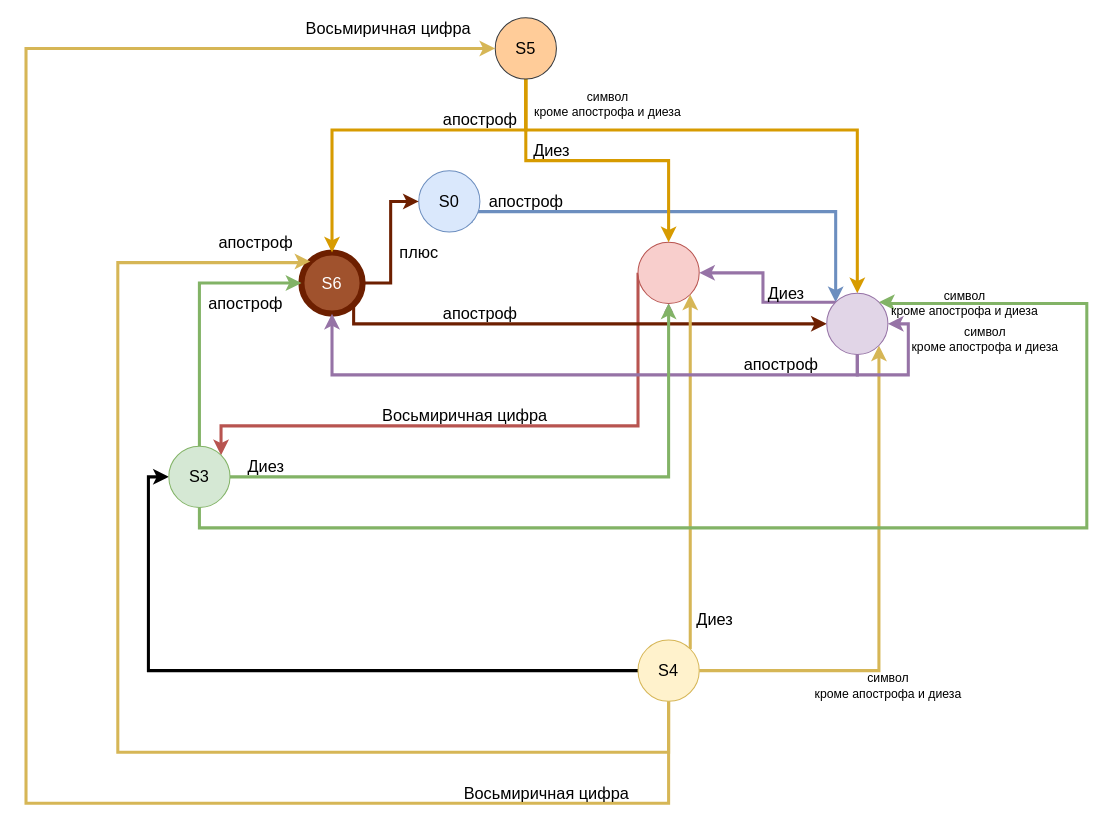
The diagram is 1114 pixels wide and 830 high, and some of its shapes have lost their labels. Each missing label, with the centre of its shape:
S1: point (668, 272)
S2: point (857, 323)
